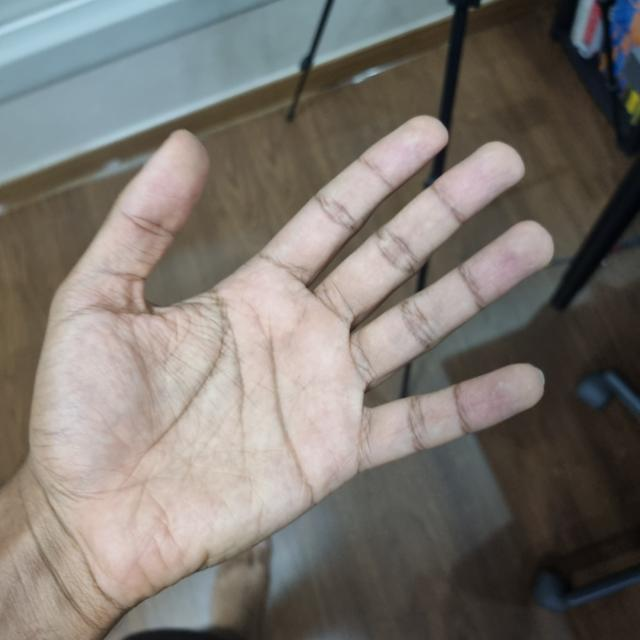Paper: (60, 119, 546, 575)
